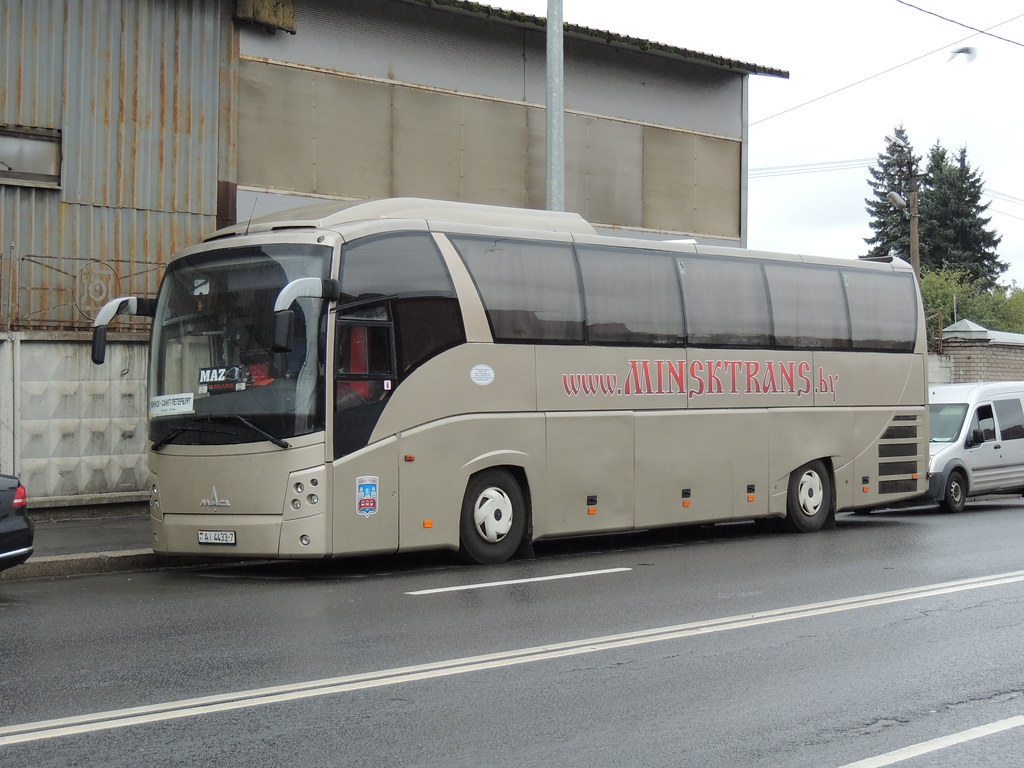bus: (148, 199, 934, 575)
passenger: (930, 381, 1024, 505)
